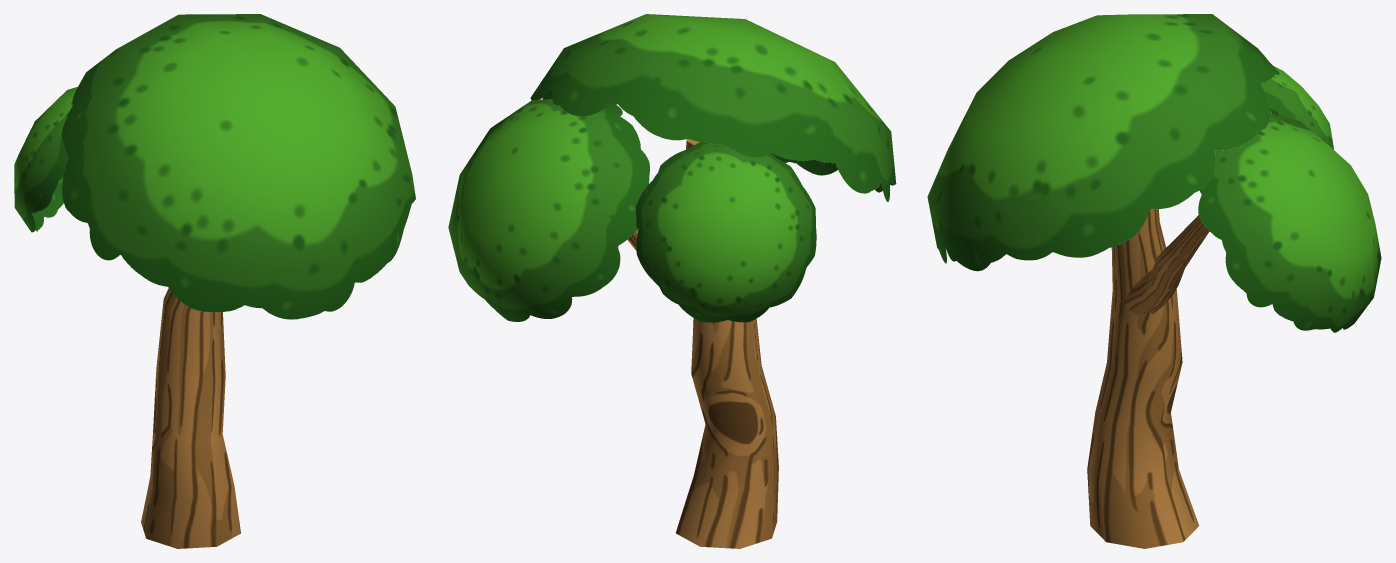
3 renders of one model, left to right at view 1: azimuth 30°, elevation 25°; view 2: azimuth 150°, elevation 25°; view 3: azimuth 270°, elevation 25°, orthographic. The views are drawn at different scales.
Parts seen in each view (by area): view 1: Cylinder001, Cylinder005, Cylinder011; view 2: Cylinder001, Cylinder010, Cylinder011, Cylinder005; view 3: Cylinder001, Cylinder010, Cylinder005, Cylinder006, Cylinder011.
Part boxes in pixels (x1,y1,x2,y2): Cylinder001: (61, 14, 415, 319); Cylinder005: (141, 288, 240, 548); Cylinder011: (14, 87, 77, 232); Cylinder001: (530, 14, 896, 201); Cylinder010: (448, 99, 649, 321); Cylinder011: (636, 142, 816, 322); Cylinder005: (676, 139, 778, 548); Cylinder001: (927, 14, 1280, 271); Cylinder010: (1198, 113, 1381, 332); Cylinder005: (1087, 208, 1199, 548); Cylinder006: (1124, 215, 1209, 315); Cylinder011: (1261, 66, 1333, 149).
Bounding box in the file's own units: 141 × 193 × 155.
1 material, 1 textured.
